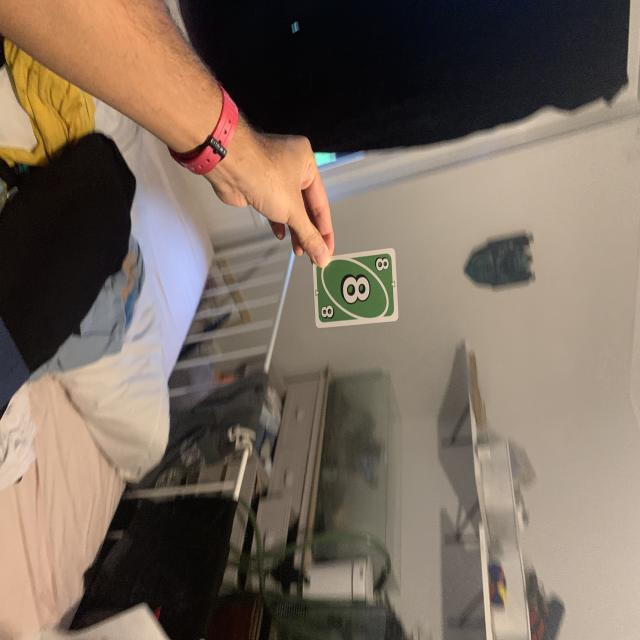lgreen-8: (372, 255, 392, 273)
